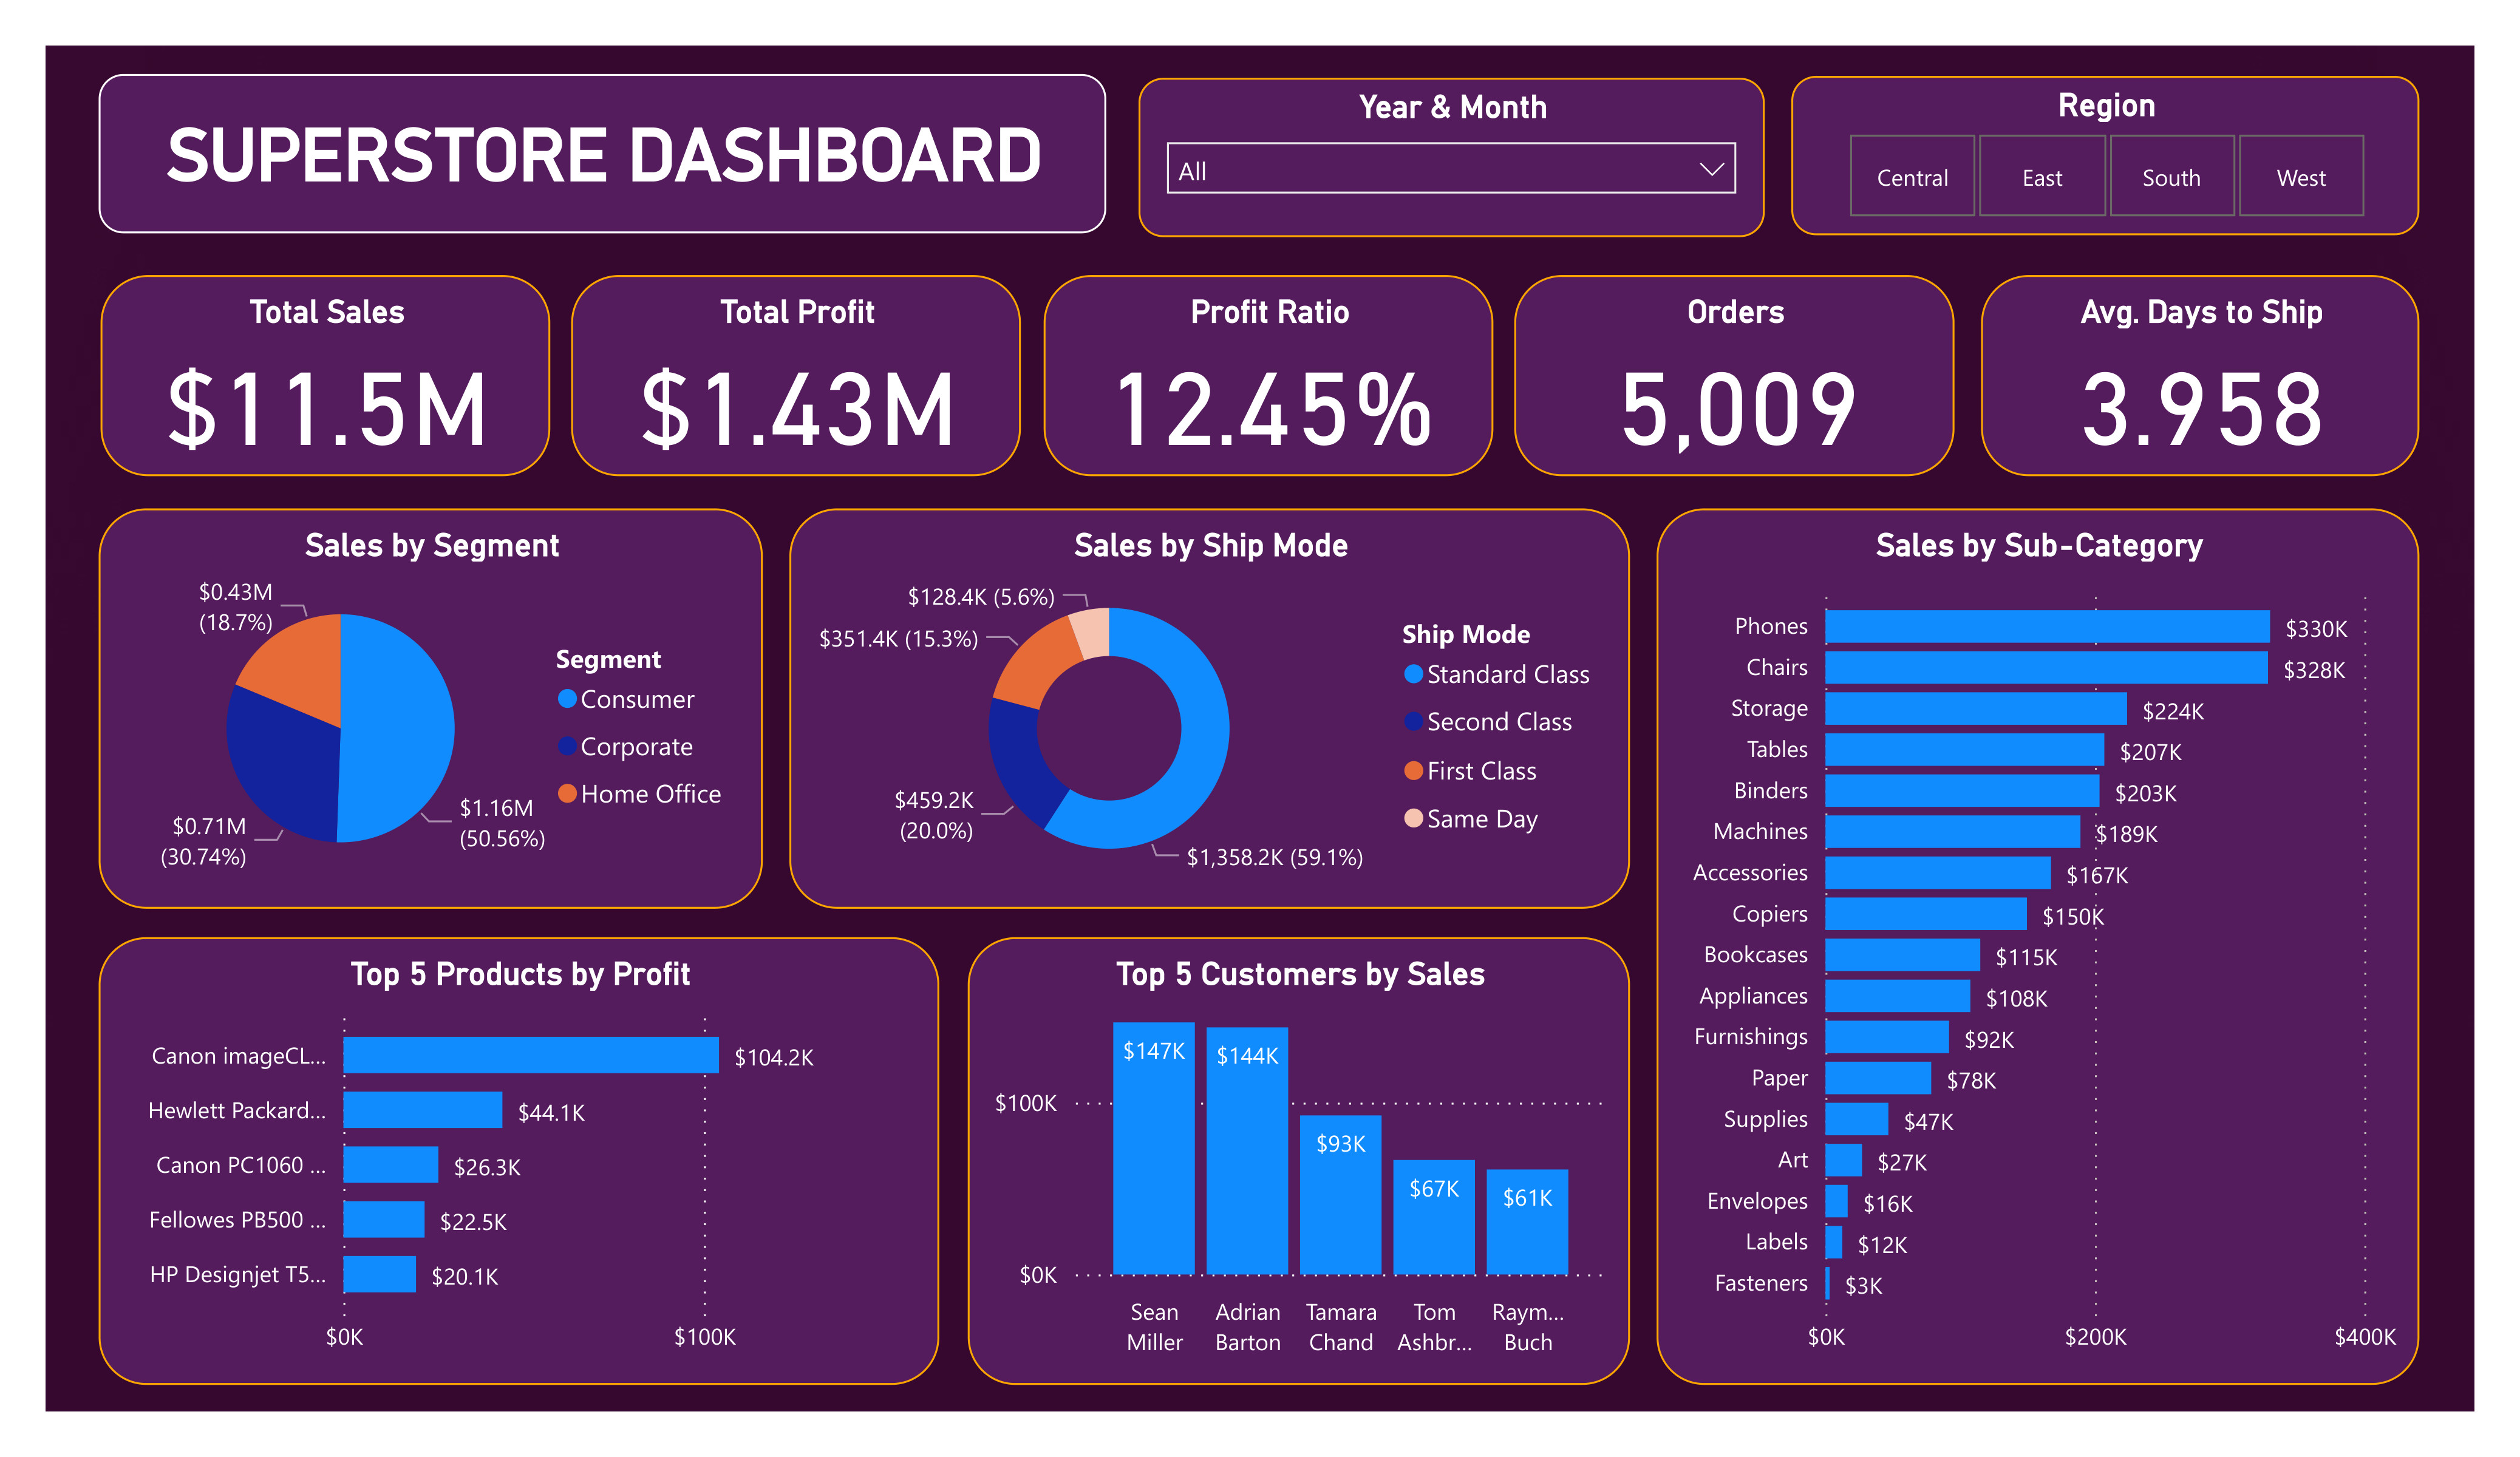

The dashboard page shown, as its layout file describes it:
{"tool":"powerbi","page":{"name":"Page 1","canvas":[1280,720],"ordinal":0},"visuals":[{"type":"barChart","title":"Top 5 Products by Profit","fields":{"Category":["new_superstore1.Product Name"],"Y":["new_superstore1.Profit amount"]},"box":[28.4,470.2,442.9,235.7],"z":0},{"type":"card","title":"Total Sales","fields":{"Values":["new_superstore1.Sales amount"]},"box":[28.6,121.4,237.1,105.7],"z":1000},{"type":"card","title":"Total Profit","fields":{"Values":["new_superstore1.Profit amount"]},"box":[277.1,121.4,237.1,105.7],"z":2000},{"type":"slicer","title":"Region","fields":{"Values":["new_superstore1.Region"]},"box":[920,15.7,331.4,84.3],"z":3000},{"type":"slicer","title":"Year & Month","fields":{"Values":["new_superstore1.Order Date.Variation.Date Hierarchy.Year","new_superstore1.Order Date.Variation.Date Hierarchy.Month"]},"box":[575.7,17.1,330,84.3],"z":4000},{"type":"pieChart","title":"Sales by Segment","fields":{"Category":["new_superstore1.Segment"],"Y":["new_superstore1.Sales"]},"box":[28.4,244,349.4,210.8],"z":5000},{"type":"donutChart","title":"Sales by Ship Mode","fields":{"Category":["new_superstore1.Ship Mode"],"Y":["new_superstore1.Sales"]},"box":[392,244,442.9,210.8],"z":6000},{"type":"columnChart","title":"Top 5 Customers by Sales","fields":{"Category":["new_superstore1.Customer Name"],"Y":["new_superstore1.Sales amount"]},"box":[485.6,470.2,349.4,235.7],"z":7000},{"type":"barChart","title":"Sales by Sub-Category","fields":{"Category":["new_superstore1.Sub-Category"],"Y":["new_superstore1.Sales"]},"box":[848.6,244.3,402.9,461.4],"z":8000},{"type":"textbox","box":[28.4,15.4,530.6,84.1],"z":9000},{"type":"card","title":"Profit Ratio","fields":{"Values":["new_superstore1.Profit ratio"]},"box":[525.7,121.4,237.1,105.7],"z":11000},{"type":"card","title":"Orders","fields":{"Values":["new_superstore1.Order ID"]},"box":[774.3,121.4,231.4,105.7],"z":12000},{"type":"card","title":"Avg. Days to Ship","fields":{"Values":["new_superstore1.Days to ship"]},"box":[1020,121.4,231.4,105.7],"z":12001}]}

Visuals, with their boxes on the page's 1280x720 design canvas (x1, y1, x2, y2). These are canvas units, not pixel positions in the 2520x1457 screenshot, which may show the page scaled, cropped or inside an application window:
"Top 5 Products by Profit" barChart: 28 470 471 706
"Total Sales" card: 29 121 266 227
"Total Profit" card: 277 121 514 227
"Region" slicer: 920 16 1251 100
"Year & Month" slicer: 576 17 906 101
"Sales by Segment" pieChart: 28 244 378 455
"Sales by Ship Mode" donutChart: 392 244 835 455
"Top 5 Customers by Sales" columnChart: 486 470 835 706
"Sales by Sub-Category" barChart: 849 244 1252 706
textbox: 28 15 559 100
"Profit Ratio" card: 526 121 763 227
"Orders" card: 774 121 1006 227
"Avg. Days to Ship" card: 1020 121 1251 227
